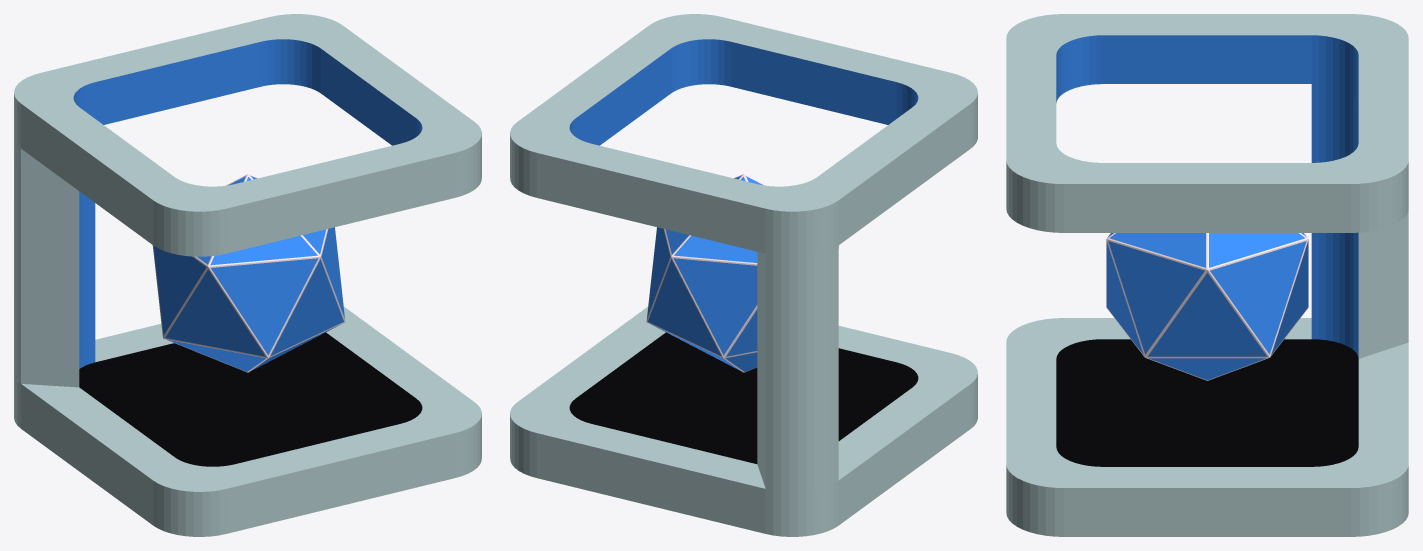
Rendered from nuppgin3.glb.
3 views of the same model, side by side, from view 1: azimuth 30°, elevation 25°; view 2: azimuth 150°, elevation 25°; view 3: azimuth 270°, elevation 25° (orthographic). The views are drawn at different scales.
Parts seen in each view (by area): view 1: Cube.002, Icosphere; view 2: Cube.002, Icosphere; view 3: Cube.002, Icosphere.
Part boxes in pixels (x1=…): Cube.002: x1=14, y1=14, x2=481, y2=536; Icosphere: x1=152, y1=174, x2=345, y2=372; Cube.002: x1=510, y1=14, x2=977, y2=536; Icosphere: x1=646, y1=174, x2=839, y2=372; Cube.002: x1=1006, y1=14, x2=1408, y2=536; Icosphere: x1=1106, y1=233, x2=1308, y2=380.
Size of the model in its own units: 12.97 by 12.55 by 12.97.
